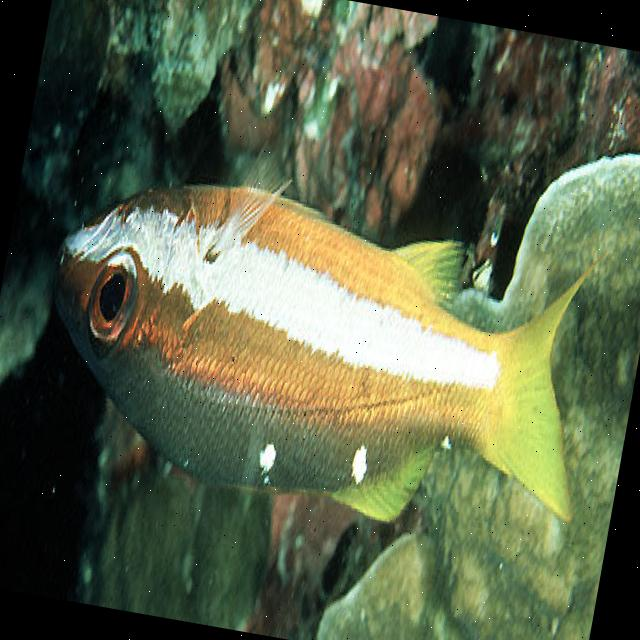ikan: (18, 139, 622, 560)
